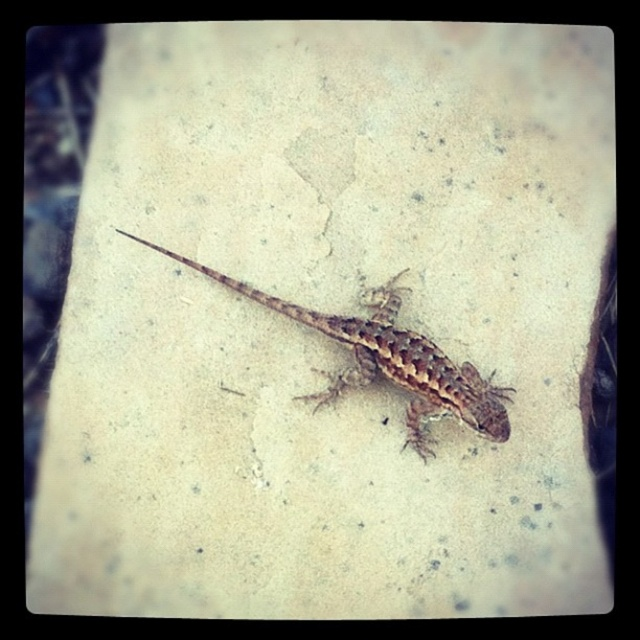Lizard: (139, 232, 521, 454)
